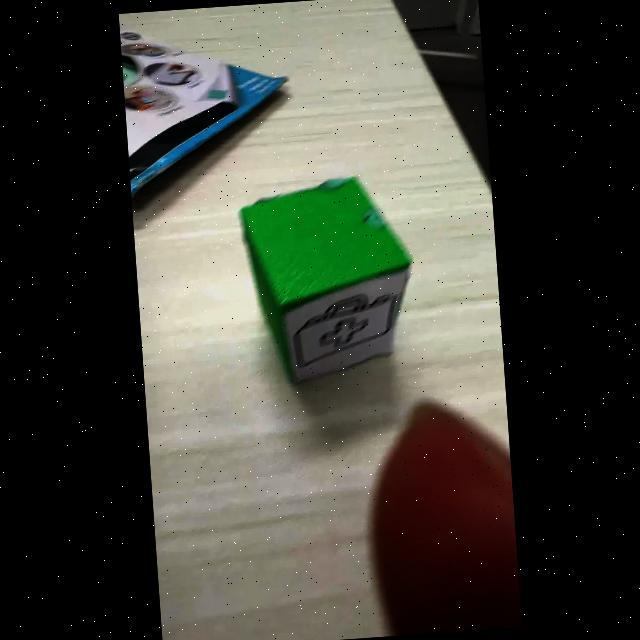Medkit: (293, 295, 397, 369)
